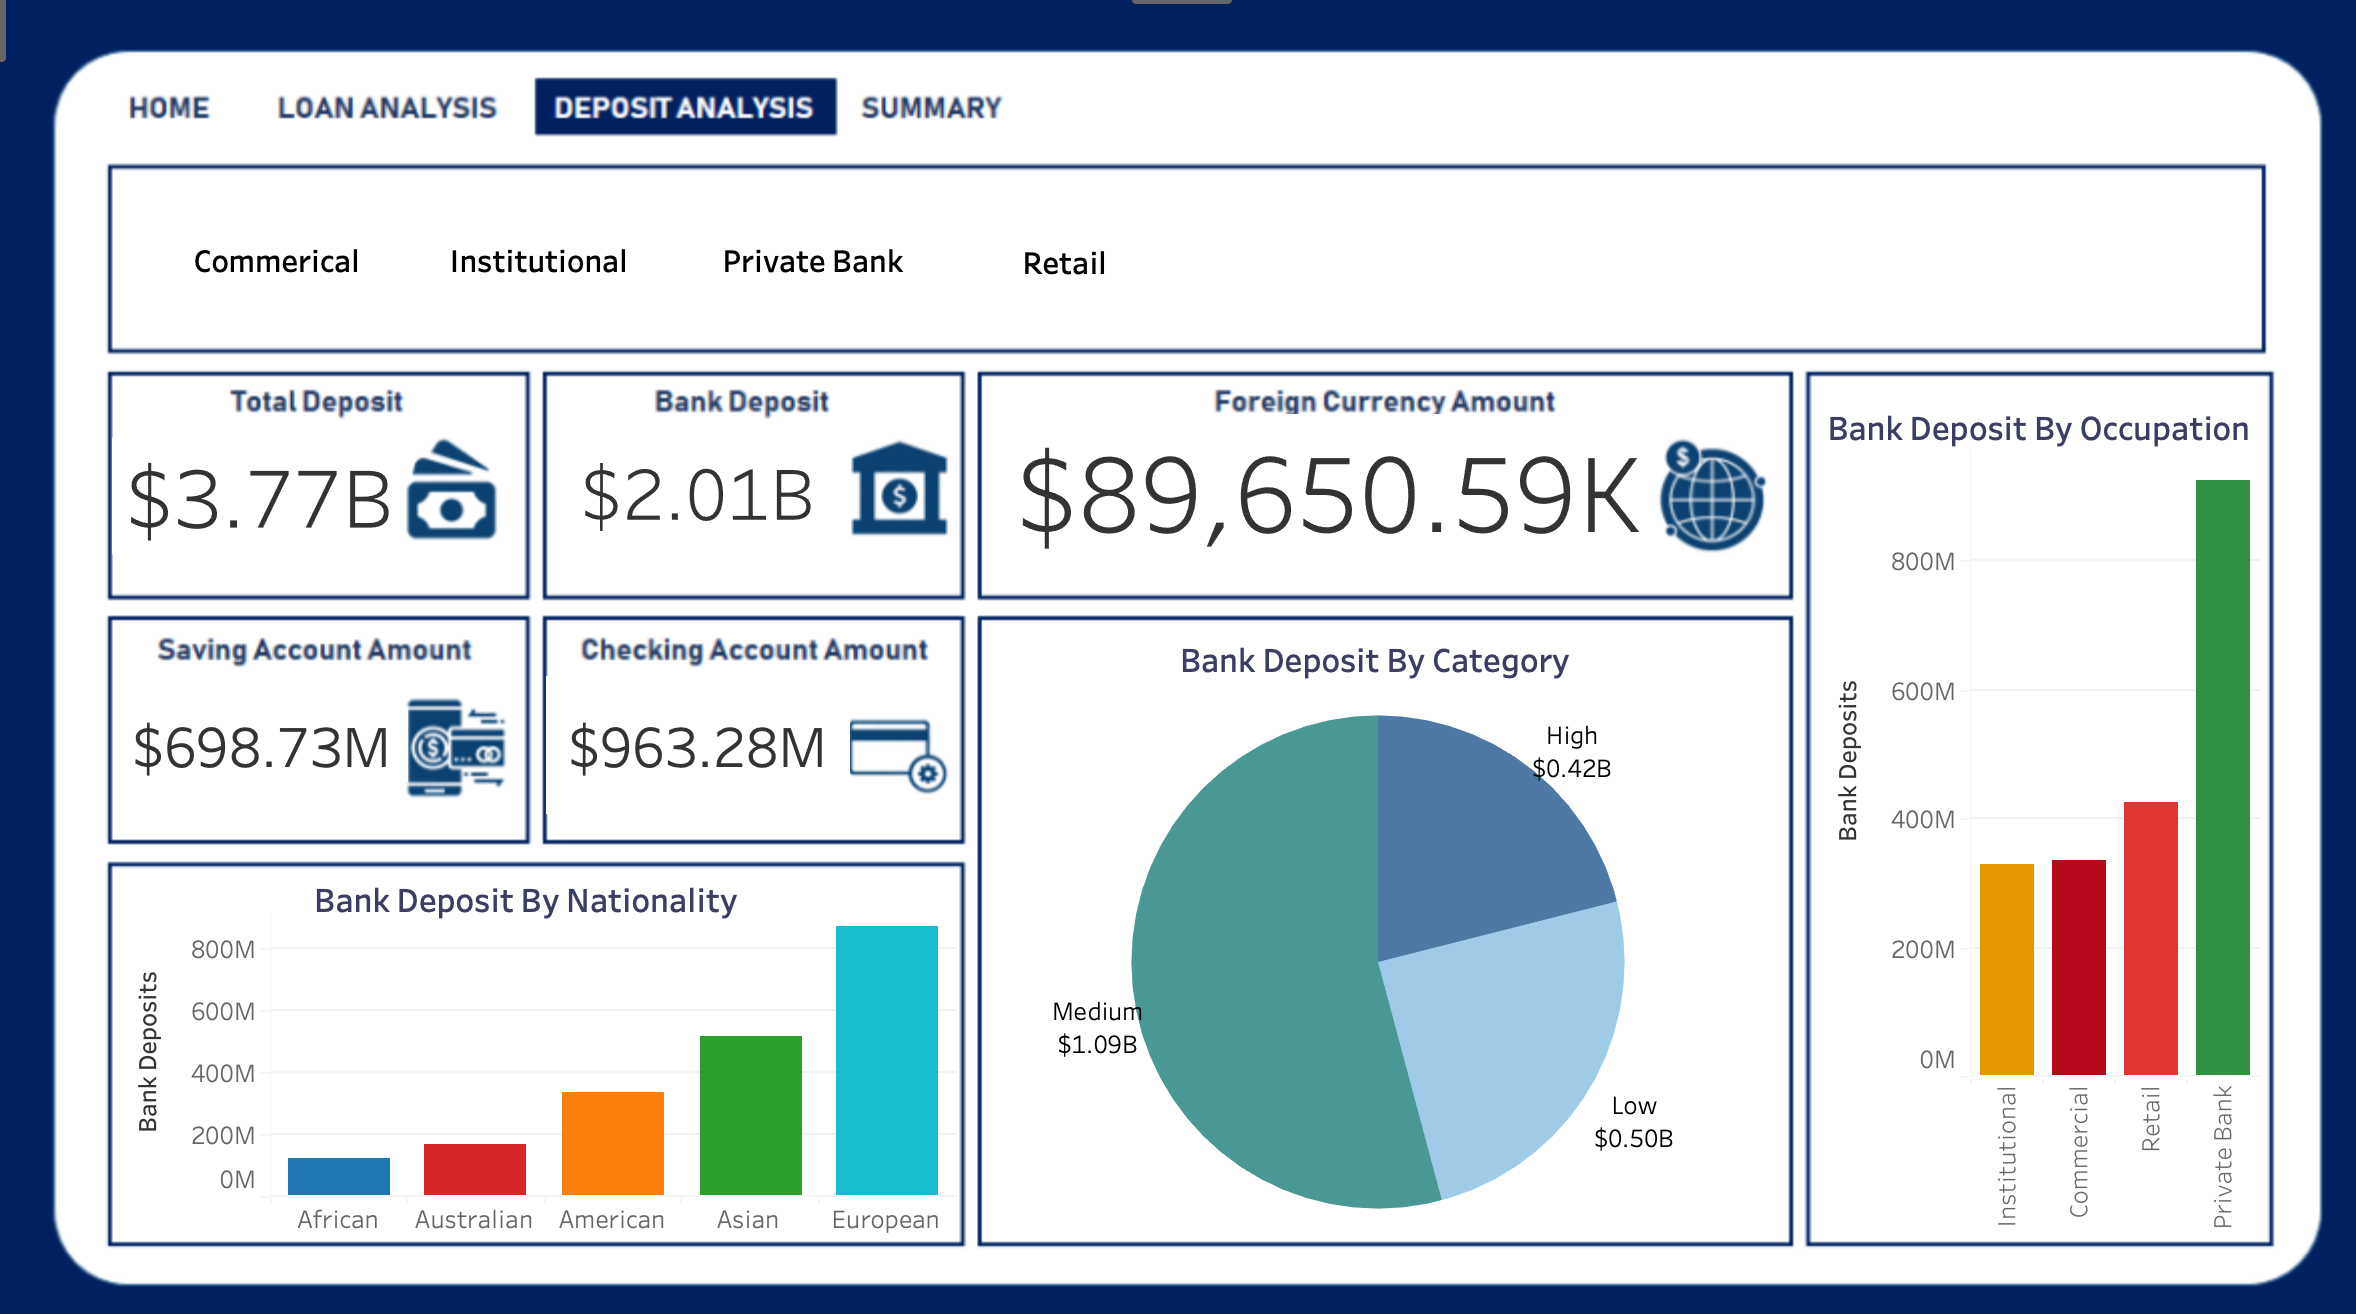

The page's visual inventory and layout, read from the dashboard file:
{"tool":"tableau","page":{"name":"Deposit","canvas":[1000,1000],"units":"permille","ordinal":0},"visuals":[{"type":"image","param":"Image/Deposit Analysis.png","box":[6.3,10.8,987.4,978.4]},{"type":"text","box":[66.7,148.7,129.4,101.4]},{"type":"text","box":[173.3,148.7,129.4,101.4]},{"type":"text","box":[284.8,148.7,129.4,101.4]},{"type":"text","box":[387.3,150,129.4,101.4]},{"type":"text","box":[770.7,290.5,176.4,40.5]},{"type":"worksheet","title":"BNK_DEOP","mark":"Automatic","box":[244.1,316.2,117.2,78.4]},{"type":"worksheet","title":"FF_CUR","mark":"Automatic","box":[431.1,318.9,264.8,102.7]},{"type":"worksheet","title":"BNK_DEPO_CHRT_2","mark":"Automatic","rows":["Bank Deposits"],"cols":["BRID"],"box":[767.5,328.4,180.5,531.1]},{"type":"worksheet","title":"Total_Depo","mark":"Automatic","box":[59.9,331.1,119,78.4]},{"type":"text","box":[487,452.7,182,40.5]},{"type":"worksheet","title":"CC_AMT","mark":"Automatic","box":[239.6,500,123.7,93.2]},{"type":"worksheet","title":"Pie 16","mark":"Pie","box":[445.9,505.4,267.7,335.1]},{"type":"worksheet","title":"SAVG_ACC","mark":"Automatic","box":[60.7,521.6,118.2,50]},{"type":"text","box":[130.8,624.3,201.7,51.4]},{"type":"worksheet","title":"BNK_DEPO_CHRT","mark":"Automatic","rows":["Bank Deposits"],"cols":["Nationality"],"box":[64.6,671.6,341.2,220.3]}]}

Visuals, with their boxes on the dashboard's canvas, which has no fixed pixel size, in thousandths of its width and height (x1, y1, x2, y2). These are canvas units, not pixel positions in the 2356x1314 screenshot, which may show the page scaled, cropped or inside an application window:
image: [6,11,994,989]
text: [67,149,196,250]
text: [173,149,303,250]
text: [285,149,414,250]
text: [387,150,517,251]
text: [771,290,947,331]
"BNK_DEOP" worksheet: [244,316,361,395]
"FF_CUR" worksheet: [431,319,696,422]
"BNK_DEPO_CHRT_2" worksheet: [768,328,948,860]
"Total_Depo" worksheet: [60,331,179,410]
text: [487,453,669,493]
"CC_AMT" worksheet: [240,500,363,593]
"Pie 16" worksheet (Pie marks): [446,505,714,840]
"SAVG_ACC" worksheet: [61,522,179,572]
text: [131,624,332,676]
"BNK_DEPO_CHRT" worksheet: [65,672,406,892]
